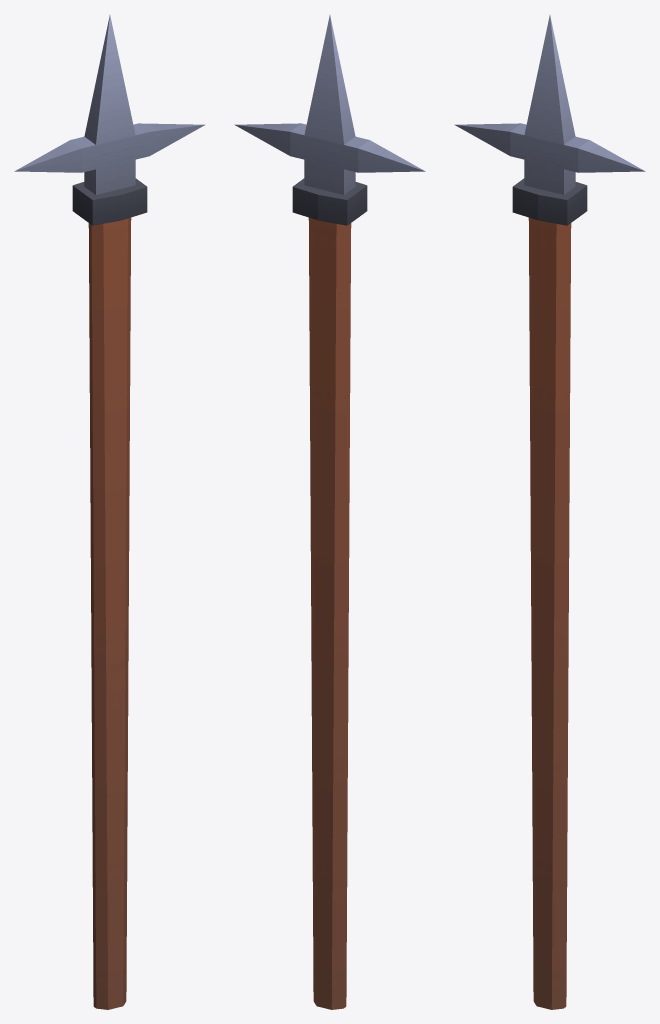
The model's file is Attach_Spear.fbx.
3 views of the same model, side by side, from view 1: azimuth 30°, elevation 25°; view 2: azimuth 150°, elevation 25°; view 3: azimuth 330°, elevation 25° (orthographic).
Parts seen in each view (by area): view 1: Attach_Spear; view 2: Attach_Spear; view 3: Attach_Spear.
Part boxes in pixels (box(x1,y1,x2,y2)): Attach_Spear: box(14, 15, 205, 1009); Attach_Spear: box(234, 15, 425, 1009); Attach_Spear: box(454, 15, 645, 1009).
Bounding box in the file's own units: 0.4826 × 0.1036 × 2.38.
